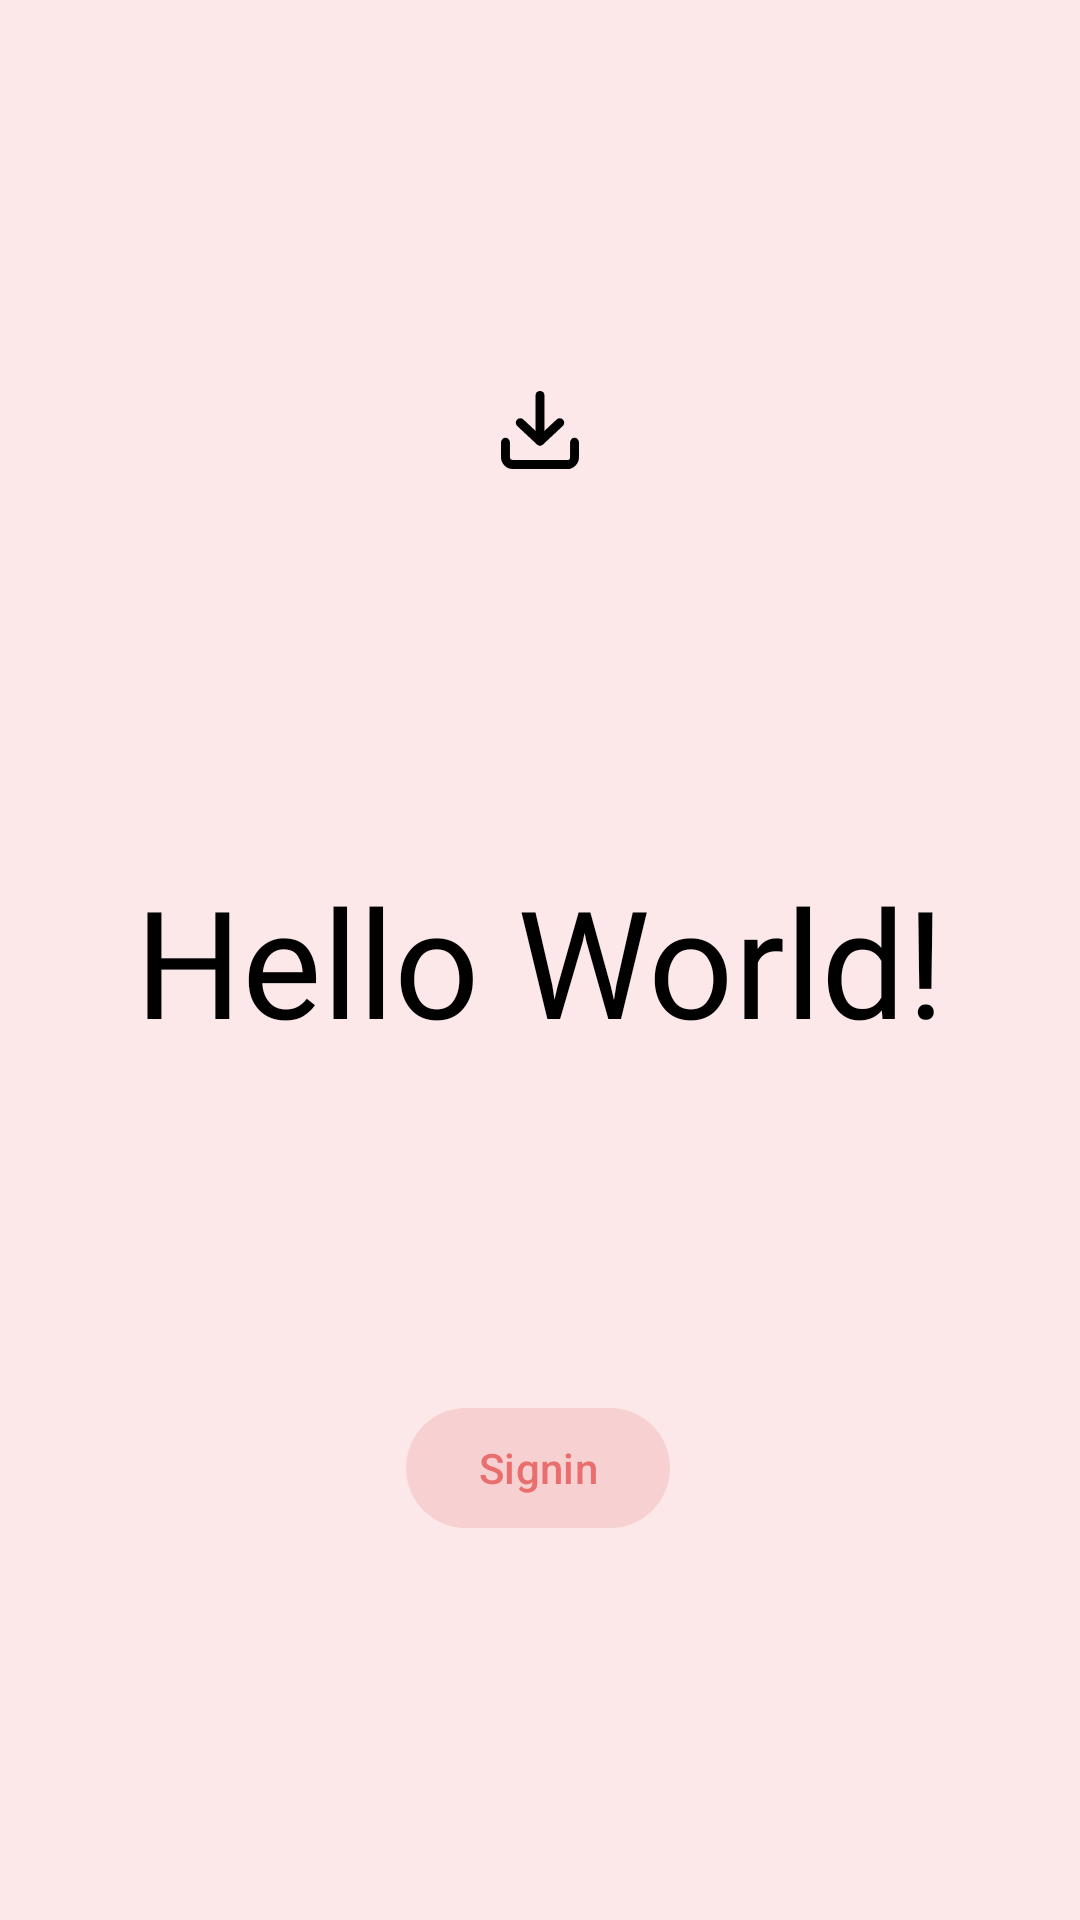

Icon click points for this 1080*1920 phone screenshot, format point (x, y):
download: point (540, 430)
